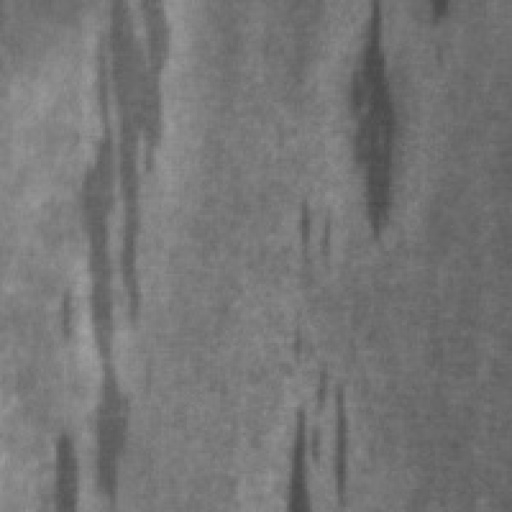inclusion: (43, 1, 173, 508), (278, 185, 353, 512), (337, 1, 402, 248), (425, 1, 457, 77)
